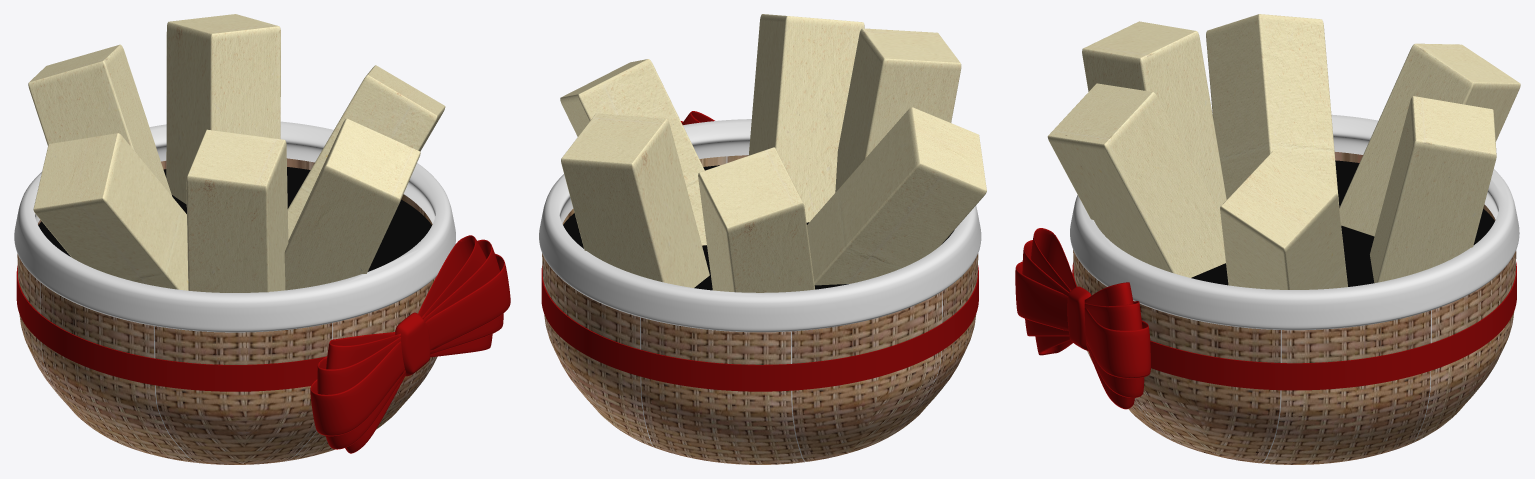
Rendered from exotic_butters.glb.
3 views of the same model, side by side, from view 1: azimuth 30°, elevation 25°; view 2: azimuth 150°, elevation 25°; view 3: azimuth 270°, elevation 25° (orthographic).
Visible parts, largest first — view 1: Butters_0, Basket_3, Bowtie_2, Ribbon_1; view 2: Butters_0, Basket_3, Ribbon_1; view 3: Butters_0, Basket_3, Bowtie_2, Ribbon_1.
Boxes of the visible parts, x1,y1,x2,y2 form: Butters_0: [28, 14, 445, 292]; Basket_3: [14, 121, 455, 464]; Bowtie_2: [310, 235, 510, 453]; Ribbon_1: [16, 266, 326, 391]; Butters_0: [560, 14, 986, 292]; Basket_3: [539, 119, 981, 464]; Ribbon_1: [541, 265, 978, 391]; Butters_0: [1047, 14, 1520, 289]; Basket_3: [1070, 114, 1519, 464]; Bowtie_2: [1015, 228, 1150, 409]; Ribbon_1: [1072, 262, 1516, 390].
Size of the model in its own units: 14.23 by 10.53 by 14.62.
Materials: 5 (2 with a texture image).
